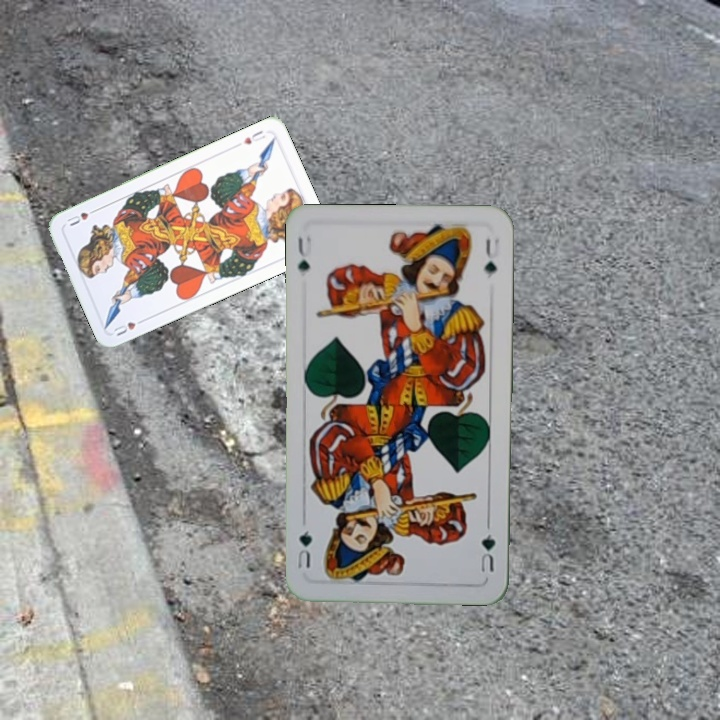GU: (477, 530, 498, 576), (293, 232, 314, 275)
HU: (110, 315, 148, 339), (239, 126, 268, 147)
